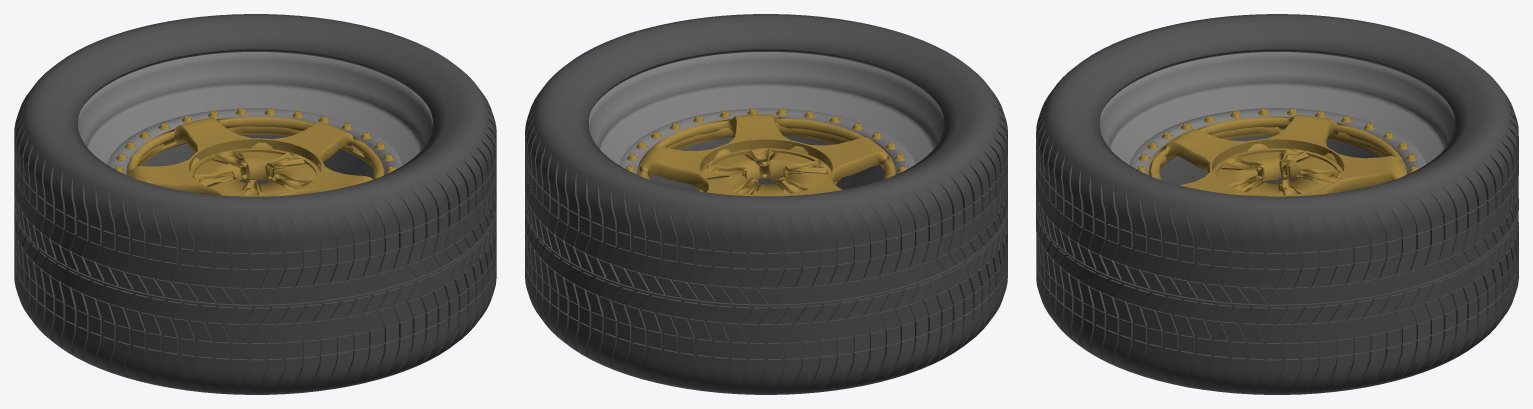
The model's file is wheel.fbx_Collection_1.fbx.
The picture shows the model from 3 angles, left to right: view 1: azimuth 30°, elevation 25°; view 2: azimuth 150°, elevation 25°; view 3: azimuth 270°, elevation 25°; orthographic projection.
Visible parts, largest first — view 1: Tyre, Circle.002; view 2: Tyre, Circle.002; view 3: Tyre, Circle.002.
Part boxes in pixels (x1,y1,x2,y2): Tyre: (14, 14, 496, 394); Circle.002: (78, 52, 432, 196); Tyre: (525, 14, 1007, 394); Circle.002: (588, 52, 944, 196); Tyre: (1036, 14, 1518, 394); Circle.002: (1099, 52, 1454, 196).
Size of the model in its own units: 645 by 286 by 645.
